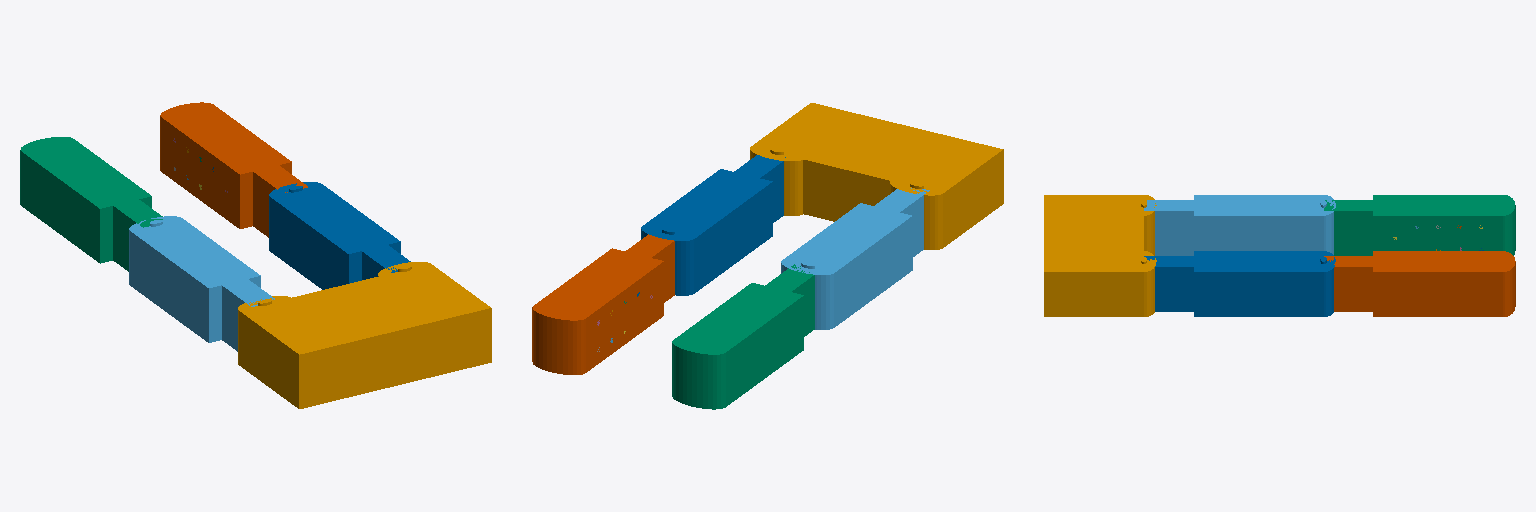
The robot description file, URDF, robot "2v2_test_hand":
<?xml version="1.0" ?>
<robot name="2v2_test_hand">

    <link name="body_palm_lpinvrpin">
        <visual>
            <origin rpy="0 1.5707963267948966 0" xyz="0 0 0"/>
            <geometry>
                <mesh filename="obj_files/body_palm_lpinvrpin.obj" scale="1 1 1"/>
            </geometry>
        </visual>
        <collision>
            <geometry>
                <mesh filename="obj_files/body_palm_lpinvrpin_collision.obj" scale="1 1 1"/>
            </geometry>
        </collision>
    </link>

    <joint name="l_prox_pin" type="revolute">
        <parent link="body_palm_lpinvrpin"/>
        <child link="body_l_prox_pinvpin"/>
        <origin rpy="0 0 0" xyz="-0.02675 0.04 0"/>
        <axis xyz="0 0 1"/>
        <limit effort="1000.0" lower="-3.14" upper="3.14" velocity="0.5"/>
    </joint>

    <link name="body_l_prox_pinvpin">
        <visual>
            <origin rpy="0 1.5707963267948966 0" xyz="0 0 0"/>
            <geometry>
                <mesh filename="obj_files/body_l_prox_pinvpin.obj" scale="1 1 1"/>
            </geometry>
        </visual>
        <collision>
            <geometry>
                <mesh filename="obj_files/body_l_prox_pinvpin_collision.obj" scale="1 1 1"/>
            </geometry>
        </collision>
    </link>

    <joint name="l_distal_pin" type="revolute">
        <parent link="body_l_prox_pinvpin"/>
        <child link="body_l_distal_pinvround"/>
        <origin rpy="0 0 0" xyz="0 0.072 0"/>
        <axis xyz="0 0 1"/>
        <limit effort="1000.0" lower="-3.14" upper="3.14" velocity="0.5"/>
    </joint>

    <link name="body_l_distal_pinvround">
        <visual>
            <origin rpy="0 1.5707963267948966 0" xyz="0 0 0"/>
            <geometry>
                <mesh filename="obj_files/body_l_distal_pinvround.obj" scale="1 1 1"/>
            </geometry>
        </visual>
        <collision>
            <geometry>
                <mesh filename="obj_files/body_l_distal_pinvround_collision.obj" scale="1 1 1"/>
            </geometry>
        </collision>
    </link>

    <joint name="l_sensor_0" type="fixed">
        <parent link="body_l_distal_pinvround"/>
        <child link="l_sensor_0"/>
        <origin rpy="0 0 0" xyz="0.01 0.06333333333333332 0.005"/>
        <axis xyz="0 0 0"/>
        <limit effort="1000.0" lower="-3.14" upper="3.14" velocity="0.5"/>
    </joint>

    <link name="l_sensor_0">
        <visual>
            <origin rpy="0 0 0" xyz="0 0 0"/>
            <geometry>
                <mesh filename="obj_files/sensor.obj" scale="1 1 1"/>
            </geometry>
        </visual>
        <collision>
            <geometry>
                <mesh filename="obj_files/sensor_collision.obj" scale="1 1 1"/>
            </geometry>
        </collision>
    </link>

    <joint name="l_sensor_1" type="fixed">
        <parent link="body_l_distal_pinvround"/>
        <child link="l_sensor_1"/>
        <origin rpy="0 0 0" xyz="0.01 0.06333333333333332 -0.005"/>
        <axis xyz="0 0 0"/>
        <limit effort="1000.0" lower="-3.14" upper="3.14" velocity="0.5"/>
    </joint>

    <link name="l_sensor_1">
        <visual>
            <origin rpy="0 0 0" xyz="0 0 0"/>
            <geometry>
                <mesh filename="obj_files/sensor.obj" scale="1 1 1"/>
            </geometry>
        </visual>
        <collision>
            <geometry>
                <mesh filename="obj_files/sensor_collision.obj" scale="1 1 1"/>
            </geometry>
        </collision>
    </link>

    <joint name="l_sensor_2" type="fixed">
        <parent link="body_l_distal_pinvround"/>
        <child link="l_sensor_2"/>
        <origin rpy="0 0 0" xyz="0.01 0.05466666666666666 0.005"/>
        <axis xyz="0 0 0"/>
        <limit effort="1000.0" lower="-3.14" upper="3.14" velocity="0.5"/>
    </joint>

    <link name="l_sensor_2">
        <visual>
            <origin rpy="0 0 0" xyz="0 0 0"/>
            <geometry>
                <mesh filename="obj_files/sensor.obj" scale="1 1 1"/>
            </geometry>
        </visual>
        <collision>
            <geometry>
                <mesh filename="obj_files/sensor_collision.obj" scale="1 1 1"/>
            </geometry>
        </collision>
    </link>

    <joint name="l_sensor_3" type="fixed">
        <parent link="body_l_distal_pinvround"/>
        <child link="l_sensor_3"/>
        <origin rpy="0 0 0" xyz="0.01 0.05466666666666666 -0.005"/>
        <axis xyz="0 0 0"/>
        <limit effort="1000.0" lower="-3.14" upper="3.14" velocity="0.5"/>
    </joint>

    <link name="l_sensor_3">
        <visual>
            <origin rpy="0 0 0" xyz="0 0 0"/>
            <geometry>
                <mesh filename="obj_files/sensor.obj" scale="1 1 1"/>
            </geometry>
        </visual>
        <collision>
            <geometry>
                <mesh filename="obj_files/sensor_collision.obj" scale="1 1 1"/>
            </geometry>
        </collision>
    </link>

    <joint name="l_sensor_4" type="fixed">
        <parent link="body_l_distal_pinvround"/>
        <child link="l_sensor_4"/>
        <origin rpy="0 0 0" xyz="0.01 0.046 0.005"/>
        <axis xyz="0 0 0"/>
        <limit effort="1000.0" lower="-3.14" upper="3.14" velocity="0.5"/>
    </joint>

    <link name="l_sensor_4">
        <visual>
            <origin rpy="0 0 0" xyz="0 0 0"/>
            <geometry>
                <mesh filename="obj_files/sensor.obj" scale="1 1 1"/>
            </geometry>
        </visual>
        <collision>
            <geometry>
                <mesh filename="obj_files/sensor_collision.obj" scale="1 1 1"/>
            </geometry>
        </collision>
    </link>

    <joint name="l_sensor_5" type="fixed">
        <parent link="body_l_distal_pinvround"/>
        <child link="l_sensor_5"/>
        <origin rpy="0 0 0" xyz="0.01 0.046 -0.005"/>
        <axis xyz="0 0 0"/>
        <limit effort="1000.0" lower="-3.14" upper="3.14" velocity="0.5"/>
    </joint>

    <link name="l_sensor_5">
        <visual>
            <origin rpy="0 0 0" xyz="0 0 0"/>
            <geometry>
                <mesh filename="obj_files/sensor.obj" scale="1 1 1"/>
            </geometry>
        </visual>
        <collision>
            <geometry>
                <mesh filename="obj_files/sensor_collision.obj" scale="1 1 1"/>
            </geometry>
        </collision>
    </link>

    <joint name="l_sensor_6" type="fixed">
        <parent link="body_l_distal_pinvround"/>
        <child link="l_sensor_6"/>
        <origin rpy="0 0 0" xyz="0.01 0.037333333333333336 0.005"/>
        <axis xyz="0 0 0"/>
        <limit effort="1000.0" lower="-3.14" upper="3.14" velocity="0.5"/>
    </joint>

    <link name="l_sensor_6">
        <visual>
            <origin rpy="0 0 0" xyz="0 0 0"/>
            <geometry>
                <mesh filename="obj_files/sensor.obj" scale="1 1 1"/>
            </geometry>
        </visual>
        <collision>
            <geometry>
                <mesh filename="obj_files/sensor_collision.obj" scale="1 1 1"/>
            </geometry>
        </collision>
    </link>

    <joint name="l_sensor_7" type="fixed">
        <parent link="body_l_distal_pinvround"/>
        <child link="l_sensor_7"/>
        <origin rpy="0 0 0" xyz="0.01 0.037333333333333336 -0.005"/>
        <axis xyz="0 0 0"/>
        <limit effort="1000.0" lower="-3.14" upper="3.14" velocity="0.5"/>
    </joint>

    <link name="l_sensor_7">
        <visual>
            <origin rpy="0 0 0" xyz="0 0 0"/>
            <geometry>
                <mesh filename="obj_files/sensor.obj" scale="1 1 1"/>
            </geometry>
        </visual>
        <collision>
            <geometry>
                <mesh filename="obj_files/sensor_collision.obj" scale="1 1 1"/>
            </geometry>
        </collision>
    </link>

    <joint name="l_sensor_8" type="fixed">
        <parent link="body_l_distal_pinvround"/>
        <child link="l_sensor_8"/>
        <origin rpy="0 0 0" xyz="0.01 0.028666666666666674 0"/>
        <axis xyz="0 0 0"/>
        <limit effort="1000.0" lower="-3.14" upper="3.14" velocity="0.5"/>
    </joint>

    <link name="l_sensor_8">
        <visual>
            <origin rpy="0 0 0" xyz="0 0 0"/>
            <geometry>
                <mesh filename="obj_files/sensor.obj" scale="1 1 1"/>
            </geometry>
        </visual>
        <collision>
            <geometry>
                <mesh filename="obj_files/sensor_collision.obj" scale="1 1 1"/>
            </geometry>
        </collision>
    </link>

    <joint name="r_prox_pin" type="revolute">
        <parent link="body_palm_lpinvrpin"/>
        <child link="body_r_prox_pinvpin"/>
        <origin rpy="0 0 0" xyz="0.02675 0.04 0"/>
        <axis xyz="0 0 1"/>
        <limit effort="1000.0" lower="-3.14" upper="3.14" velocity="0.5"/>
    </joint>

    <link name="body_r_prox_pinvpin">
        <visual>
            <origin rpy="0 1.5707963267948966 0" xyz="0 0 0"/>
            <geometry>
                <mesh filename="obj_files/body_r_prox_pinvpin.obj" scale="1 1 1"/>
            </geometry>
        </visual>
        <collision>
            <geometry>
                <mesh filename="obj_files/body_r_prox_pinvpin_collision.obj" scale="1 1 1"/>
            </geometry>
        </collision>
    </link>

    <joint name="r_distal_pin" type="revolute">
        <parent link="body_r_prox_pinvpin"/>
        <child link="body_r_distal_pinvround"/>
        <origin rpy="0 0 0" xyz="0 0.072 0"/>
        <axis xyz="0 0 1"/>
        <limit effort="1000.0" lower="-3.14" upper="3.14" velocity="0.5"/>
    </joint>

    <link name="body_r_distal_pinvround">
        <visual>
            <origin rpy="0 1.5707963267948966 0" xyz="0 0 0"/>
            <geometry>
                <mesh filename="obj_files/body_r_distal_pinvround.obj" scale="1 1 1"/>
            </geometry>
        </visual>
        <collision>
            <geometry>
                <mesh filename="obj_files/body_r_distal_pinvround_collision.obj" scale="1 1 1"/>
            </geometry>
        </collision>
    </link>

    <joint name="r_sensor_0" type="fixed">
        <parent link="body_r_distal_pinvround"/>
        <child link="r_sensor_0"/>
        <origin rpy="0 0 0" xyz="-0.01 0.06333333333333332 0.005"/>
        <axis xyz="0 0 0"/>
        <limit effort="1000.0" lower="-3.14" upper="3.14" velocity="0.5"/>
    </joint>

    <link name="r_sensor_0">
        <visual>
            <origin rpy="0 0 3.141592653589793" xyz="0 0 0"/>
            <geometry>
                <mesh filename="obj_files/sensor.obj" scale="1 1 1"/>
            </geometry>
        </visual>
        <collision>
            <geometry>
                <mesh filename="obj_files/sensor_collision.obj" scale="1 1 1"/>
            </geometry>
        </collision>
    </link>

    <joint name="r_sensor_1" type="fixed">
        <parent link="body_r_distal_pinvround"/>
        <child link="r_sensor_1"/>
        <origin rpy="0 0 0" xyz="-0.01 0.06333333333333332 -0.005"/>
        <axis xyz="0 0 0"/>
        <limit effort="1000.0" lower="-3.14" upper="3.14" velocity="0.5"/>
    </joint>

    <link name="r_sensor_1">
        <visual>
            <origin rpy="0 0 3.141592653589793" xyz="0 0 0"/>
            <geometry>
                <mesh filename="obj_files/sensor.obj" scale="1 1 1"/>
            </geometry>
        </visual>
        <collision>
            <geometry>
                <mesh filename="obj_files/sensor_collision.obj" scale="1 1 1"/>
            </geometry>
        </collision>
    </link>

    <joint name="r_sensor_2" type="fixed">
        <parent link="body_r_distal_pinvround"/>
        <child link="r_sensor_2"/>
        <origin rpy="0 0 0" xyz="-0.01 0.05466666666666666 0.005"/>
        <axis xyz="0 0 0"/>
        <limit effort="1000.0" lower="-3.14" upper="3.14" velocity="0.5"/>
    </joint>

    <link name="r_sensor_2">
        <visual>
            <origin rpy="0 0 3.141592653589793" xyz="0 0 0"/>
            <geometry>
                <mesh filename="obj_files/sensor.obj" scale="1 1 1"/>
            </geometry>
        </visual>
        <collision>
            <geometry>
                <mesh filename="obj_files/sensor_collision.obj" scale="1 1 1"/>
            </geometry>
        </collision>
    </link>

    <joint name="r_sensor_3" type="fixed">
        <parent link="body_r_distal_pinvround"/>
        <child link="r_sensor_3"/>
        <origin rpy="0 0 0" xyz="-0.01 0.05466666666666666 -0.005"/>
        <axis xyz="0 0 0"/>
        <limit effort="1000.0" lower="-3.14" upper="3.14" velocity="0.5"/>
    </joint>

    <link name="r_sensor_3">
        <visual>
            <origin rpy="0 0 3.141592653589793" xyz="0 0 0"/>
            <geometry>
                <mesh filename="obj_files/sensor.obj" scale="1 1 1"/>
            </geometry>
        </visual>
        <collision>
            <geometry>
                <mesh filename="obj_files/sensor_collision.obj" scale="1 1 1"/>
            </geometry>
        </collision>
    </link>

    <joint name="r_sensor_4" type="fixed">
        <parent link="body_r_distal_pinvround"/>
        <child link="r_sensor_4"/>
        <origin rpy="0 0 0" xyz="-0.01 0.046 0.005"/>
        <axis xyz="0 0 0"/>
        <limit effort="1000.0" lower="-3.14" upper="3.14" velocity="0.5"/>
    </joint>

    <link name="r_sensor_4">
        <visual>
            <origin rpy="0 0 3.141592653589793" xyz="0 0 0"/>
            <geometry>
                <mesh filename="obj_files/sensor.obj" scale="1 1 1"/>
            </geometry>
        </visual>
        <collision>
            <geometry>
                <mesh filename="obj_files/sensor_collision.obj" scale="1 1 1"/>
            </geometry>
        </collision>
    </link>

    <joint name="r_sensor_5" type="fixed">
        <parent link="body_r_distal_pinvround"/>
        <child link="r_sensor_5"/>
        <origin rpy="0 0 0" xyz="-0.01 0.046 -0.005"/>
        <axis xyz="0 0 0"/>
        <limit effort="1000.0" lower="-3.14" upper="3.14" velocity="0.5"/>
    </joint>

    <link name="r_sensor_5">
        <visual>
            <origin rpy="0 0 3.141592653589793" xyz="0 0 0"/>
            <geometry>
                <mesh filename="obj_files/sensor.obj" scale="1 1 1"/>
            </geometry>
        </visual>
        <collision>
            <geometry>
                <mesh filename="obj_files/sensor_collision.obj" scale="1 1 1"/>
            </geometry>
        </collision>
    </link>

    <joint name="r_sensor_6" type="fixed">
        <parent link="body_r_distal_pinvround"/>
        <child link="r_sensor_6"/>
        <origin rpy="0 0 0" xyz="-0.01 0.037333333333333336 0.005"/>
        <axis xyz="0 0 0"/>
        <limit effort="1000.0" lower="-3.14" upper="3.14" velocity="0.5"/>
    </joint>

    <link name="r_sensor_6">
        <visual>
            <origin rpy="0 0 3.141592653589793" xyz="0 0 0"/>
            <geometry>
                <mesh filename="obj_files/sensor.obj" scale="1 1 1"/>
            </geometry>
        </visual>
        <collision>
            <geometry>
                <mesh filename="obj_files/sensor_collision.obj" scale="1 1 1"/>
            </geometry>
        </collision>
    </link>

    <joint name="r_sensor_7" type="fixed">
        <parent link="body_r_distal_pinvround"/>
        <child link="r_sensor_7"/>
        <origin rpy="0 0 0" xyz="-0.01 0.037333333333333336 -0.005"/>
        <axis xyz="0 0 0"/>
        <limit effort="1000.0" lower="-3.14" upper="3.14" velocity="0.5"/>
    </joint>

    <link name="r_sensor_7">
        <visual>
            <origin rpy="0 0 3.141592653589793" xyz="0 0 0"/>
            <geometry>
                <mesh filename="obj_files/sensor.obj" scale="1 1 1"/>
            </geometry>
        </visual>
        <collision>
            <geometry>
                <mesh filename="obj_files/sensor_collision.obj" scale="1 1 1"/>
            </geometry>
        </collision>
    </link>

    <joint name="r_sensor_8" type="fixed">
        <parent link="body_r_distal_pinvround"/>
        <child link="r_sensor_8"/>
        <origin rpy="0 0 0" xyz="-0.01 0.028666666666666674 0"/>
        <axis xyz="0 0 0"/>
        <limit effort="1000.0" lower="-3.14" upper="3.14" velocity="0.5"/>
    </joint>

    <link name="r_sensor_8">
        <visual>
            <origin rpy="0 0 3.141592653589793" xyz="0 0 0"/>
            <geometry>
                <mesh filename="obj_files/sensor.obj" scale="1 1 1"/>
            </geometry>
        </visual>
        <collision>
            <geometry>
                <mesh filename="obj_files/sensor_collision.obj" scale="1 1 1"/>
            </geometry>
        </collision>
    </link>

</robot>

--- Render facts (derived) ---
The picture shows the robot from 3 angles, left to right: view 1: azimuth 30°, elevation 25°; view 2: azimuth 150°, elevation 25°; view 3: azimuth 270°, elevation 25°; orthographic projection.
Model 2v2_test_hand with 23 links and 22 joints (4 revolute, 18 fixed), rooted at body_palm_lpinvrpin, posed all joints at 0.
Visible links, largest first — view 1: body_palm_lpinvrpin, body_l_distal_pinvround, body_l_prox_pinvpin, body_r_distal_pinvround, body_r_prox_pinvpin; view 2: body_palm_lpinvrpin, body_l_distal_pinvround, body_r_distal_pinvround, body_l_prox_pinvpin, body_r_prox_pinvpin; view 3: body_palm_lpinvrpin, body_r_distal_pinvround, body_r_prox_pinvpin, body_l_distal_pinvround, body_l_prox_pinvpin.
Link boxes in pixels (x1,y1,x2,y2): body_palm_lpinvrpin: (238, 262, 491, 408); body_l_distal_pinvround: (20, 137, 162, 271); body_l_prox_pinvpin: (129, 216, 274, 351); body_r_distal_pinvround: (160, 102, 307, 237); body_r_prox_pinvpin: (269, 182, 410, 289); body_palm_lpinvrpin: (750, 103, 1003, 249); body_l_distal_pinvround: (672, 264, 814, 409); body_r_distal_pinvround: (532, 234, 674, 374); body_l_prox_pinvpin: (781, 188, 929, 329); body_r_prox_pinvpin: (641, 155, 785, 295); body_palm_lpinvrpin: (1044, 195, 1156, 316); body_r_distal_pinvround: (1324, 251, 1515, 316); body_r_prox_pinvpin: (1144, 251, 1335, 316); body_l_distal_pinvround: (1324, 195, 1515, 255); body_l_prox_pinvpin: (1144, 195, 1335, 255).
Size in the robot's own frame: 0.0735 by 0.189 by 0.022 metres.
23 mesh visuals loaded from 6 distinct referenced files (6 OBJ).